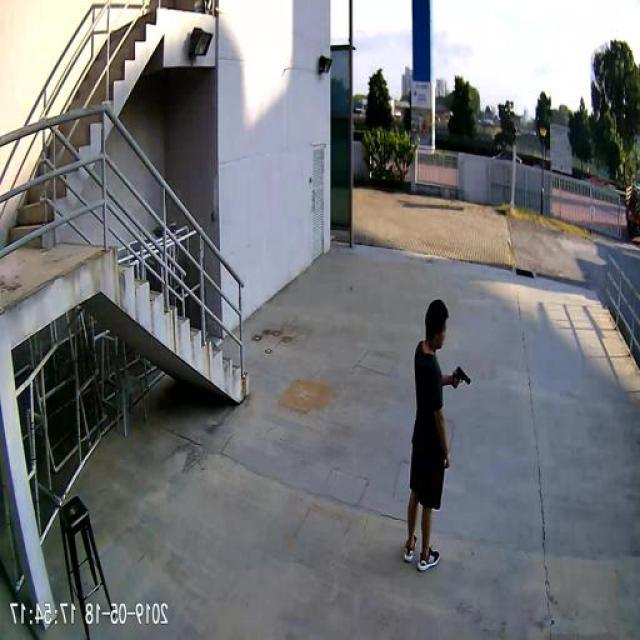Gun: (455, 362, 474, 383)
